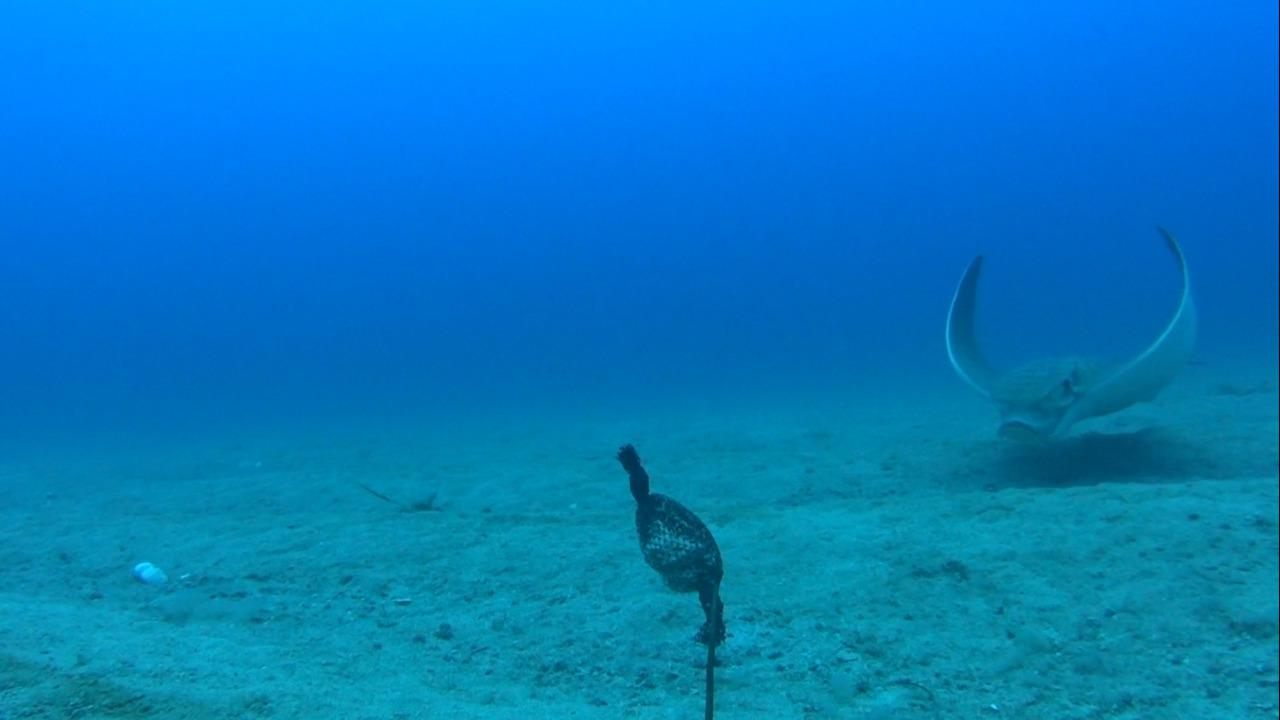myliobatis: (938, 214, 1208, 455)
